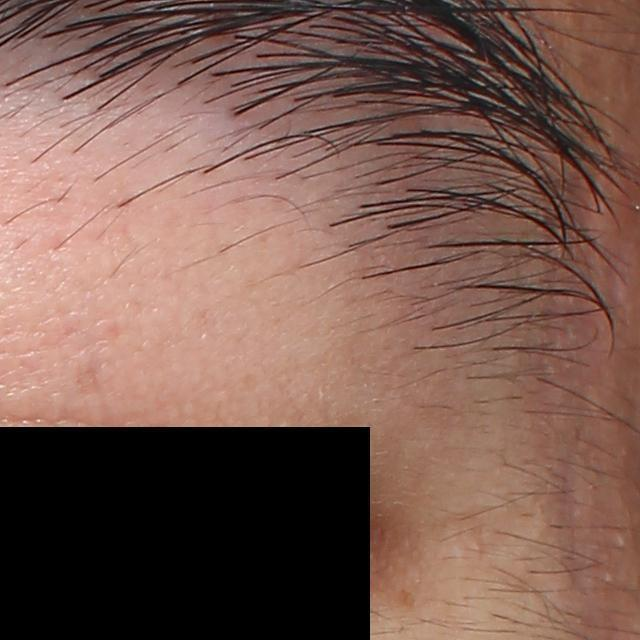melasma: (394, 585, 415, 612)
